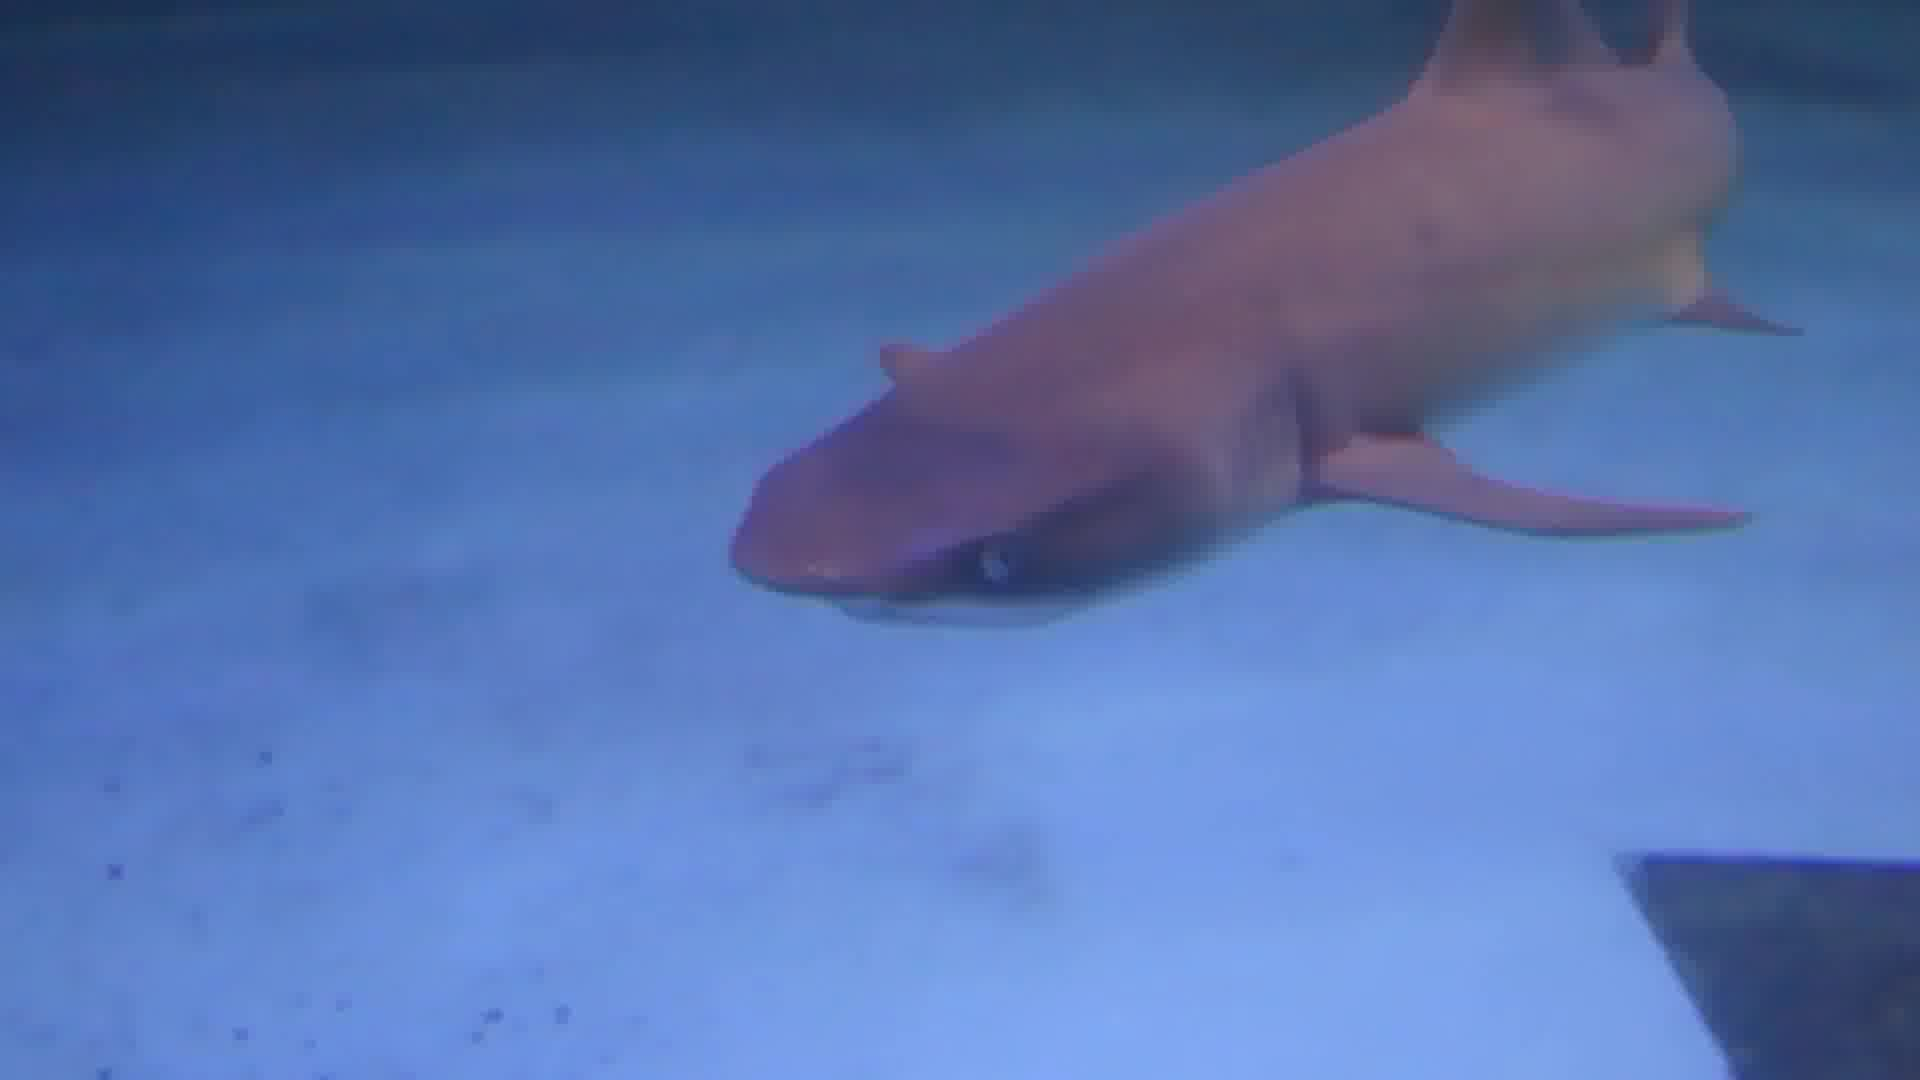Triaenodon obesus: (671, 5, 1815, 661)
